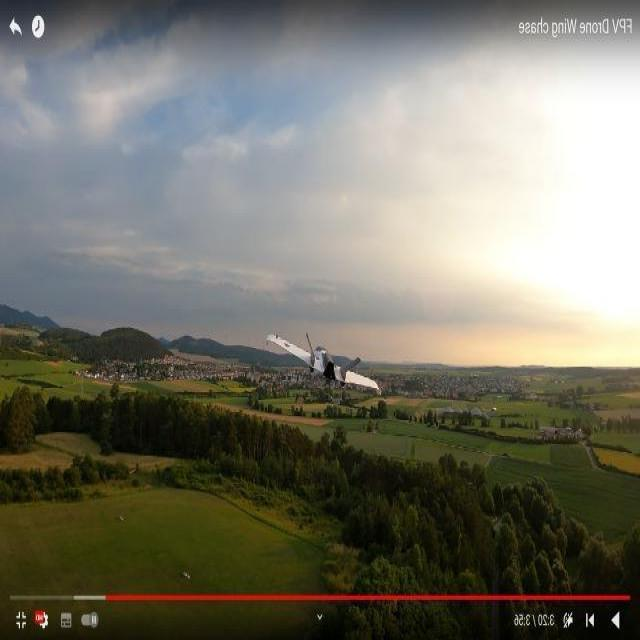Airplane: (264, 328, 386, 402)
